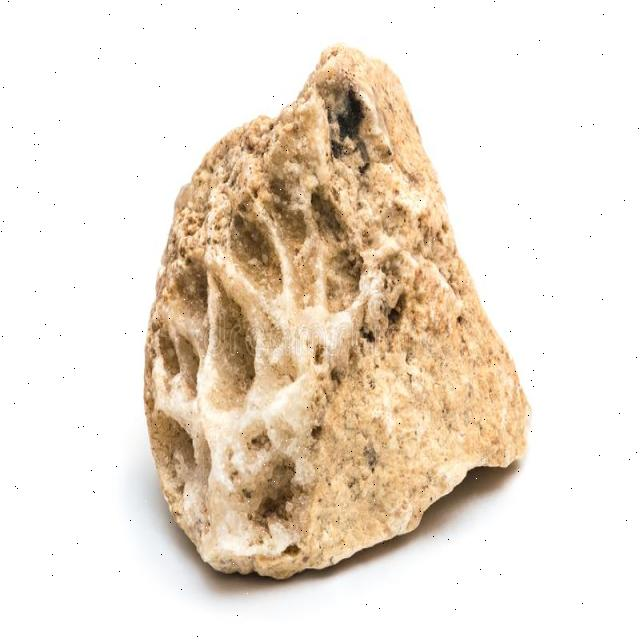Sedimentary: (142, 37, 536, 581)
